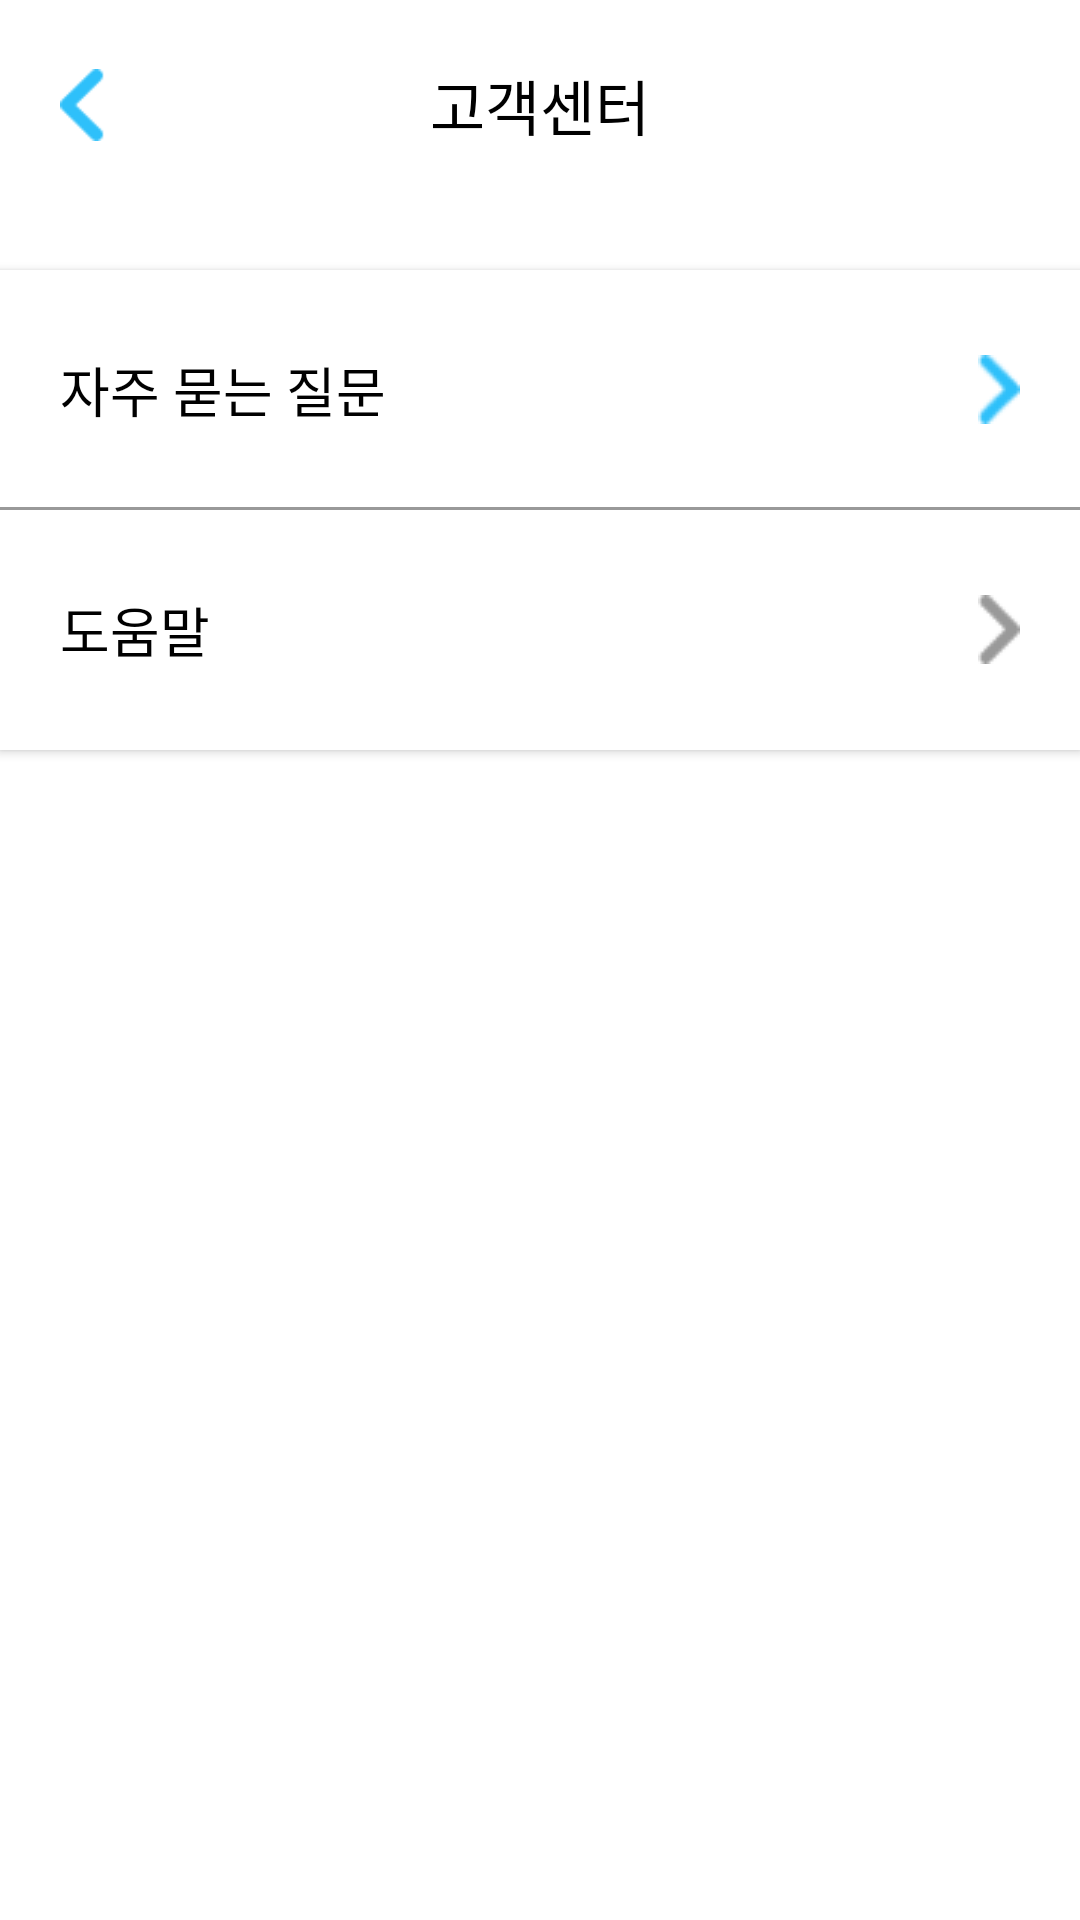

Where icons sit on this 1080w x 1920h app screen, as (x1, y1, x2, y2):
back: (60, 69, 104, 141)
